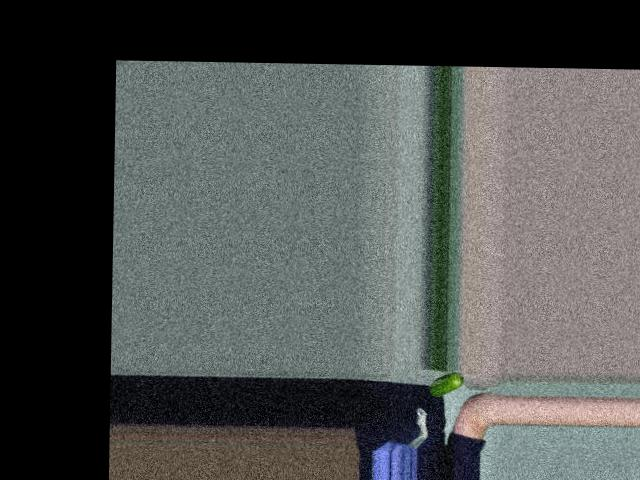cucumber: (429, 371, 464, 397)
